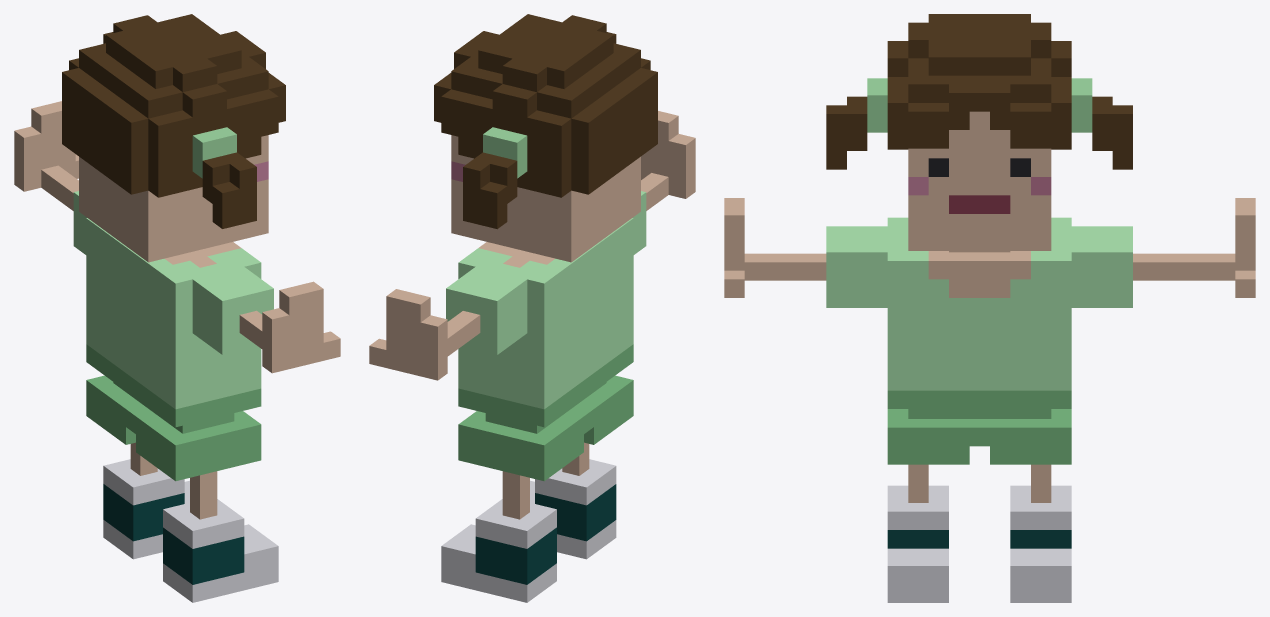
Rendered from girl.obj.
3 renders of one model, left to right at view 1: azimuth 30°, elevation 25°; view 2: azimuth 150°, elevation 25°; view 3: azimuth 270°, elevation 25°, orthographic. The views are drawn at different scales.
Visible parts, largest first — view 1: girl; view 2: girl; view 3: girl.
Boxes of the visible parts, <box> form: girl: <box>14,14,340,602</box>; girl: <box>369,14,695,602</box>; girl: <box>724,14,1255,602</box>.
Size of the model in its own units: 9 by 29 by 26.
1 material, 1 textured.
